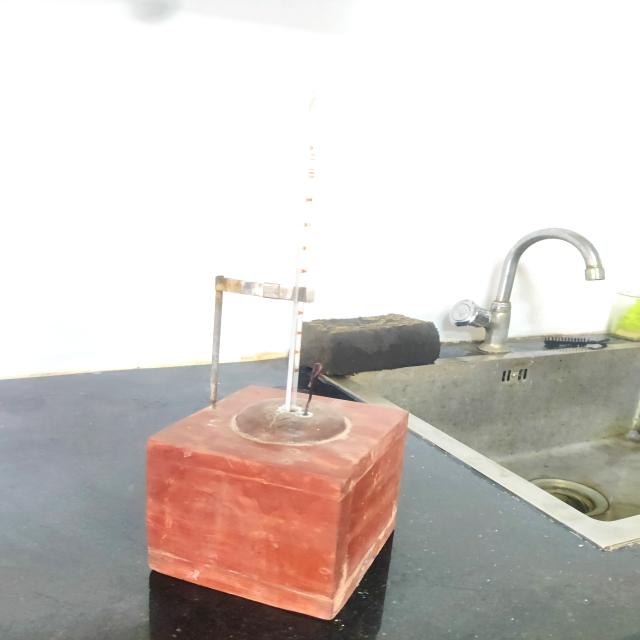Calorimeter: (128, 75, 433, 634)
